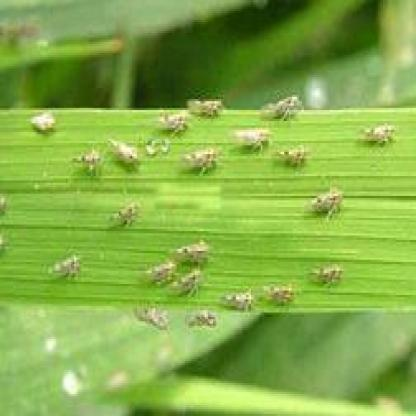brown-planthopper: (182, 148, 221, 174), (310, 188, 343, 217), (107, 138, 140, 167), (264, 94, 304, 116), (188, 96, 224, 120), (232, 127, 270, 149), (172, 270, 204, 296), (54, 250, 80, 281), (176, 240, 210, 262), (362, 122, 398, 142), (278, 142, 306, 167), (160, 110, 187, 135), (136, 310, 169, 330), (145, 260, 173, 282), (73, 151, 101, 173), (188, 309, 217, 330), (115, 202, 138, 227), (314, 264, 342, 284), (266, 284, 294, 304), (32, 112, 57, 132), (224, 292, 253, 308)
